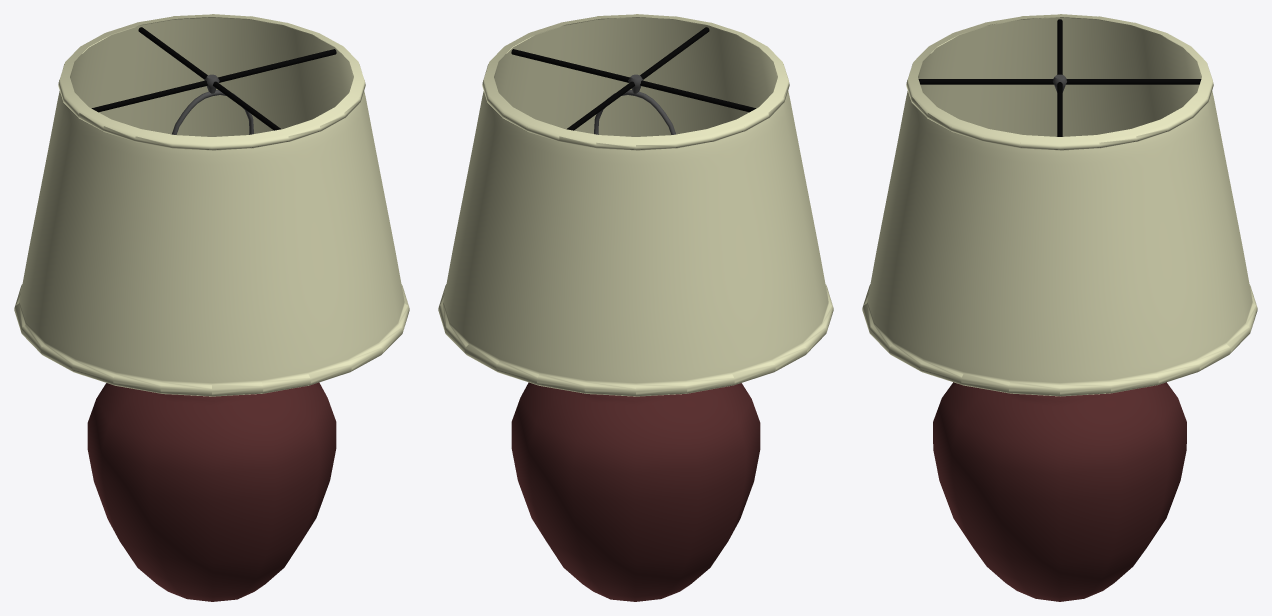
The model's file is LampExport.fbx.
3 renders of one model, left to right at view 1: azimuth 30°, elevation 25°; view 2: azimuth 150°, elevation 25°; view 3: azimuth 270°, elevation 25°, orthographic.
Visible parts, largest first — view 1: revolvedSurface4, revolvedSurface1, pCylinder3, pasted__pCylinder3, pCylinder1; view 2: revolvedSurface4, revolvedSurface1, pCylinder3, pasted__pCylinder3, pCylinder1; view 3: revolvedSurface4, revolvedSurface1, pasted__pCylinder3, pCylinder3.
Boxes of the visible parts, x1,y1,x2,y2 form: revolvedSurface4: (14,14,409,396); revolvedSurface1: (87,382,336,601); pCylinder3: (91,49,336,112); pasted__pCylinder3: (138,27,281,130); pCylinder1: (171,90,253,134); revolvedSurface4: (438,14,833,396); revolvedSurface1: (511,382,760,601); pCylinder3: (511,49,756,112); pasted__pCylinder3: (566,27,709,130); pCylinder1: (594,90,676,134); revolvedSurface4: (862,14,1257,396); revolvedSurface1: (933,382,1186,601); pasted__pCylinder3: (918,79,1201,84); pCylinder3: (1057,19,1062,136).
Bounding box in the file's own units: 7.52 × 10.62 × 7.52.
